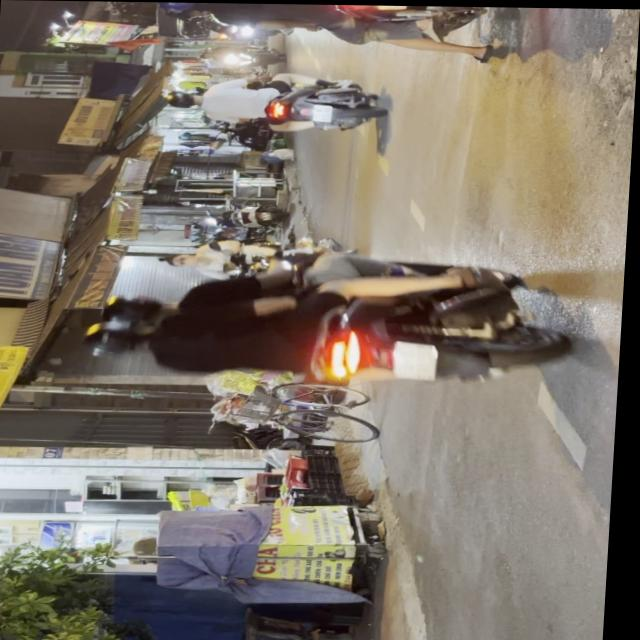helmet: (98, 297, 174, 336), (86, 325, 152, 359), (153, 2, 206, 16), (164, 92, 200, 110)
licenseplate: (83, 247, 594, 393), (147, 2, 508, 60), (162, 72, 387, 134)
motorcyclist: (168, 253, 198, 268)
nohelmet: (395, 342, 439, 380), (312, 105, 332, 122)
